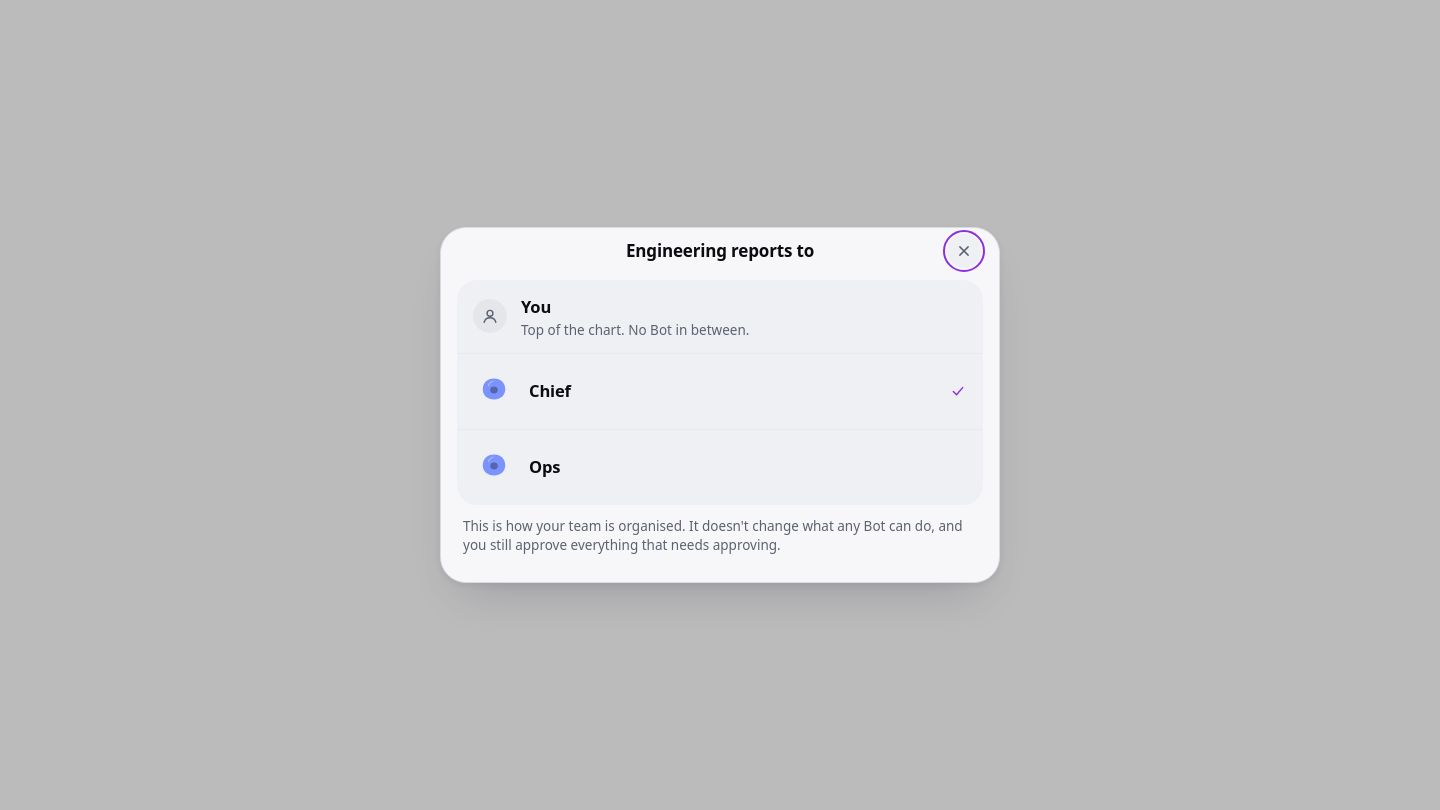
it: ReportsToSheet › says a lost connection in plain words, and stays open
Click the button "Ops" at (494, 466), box [457,429,983,505]
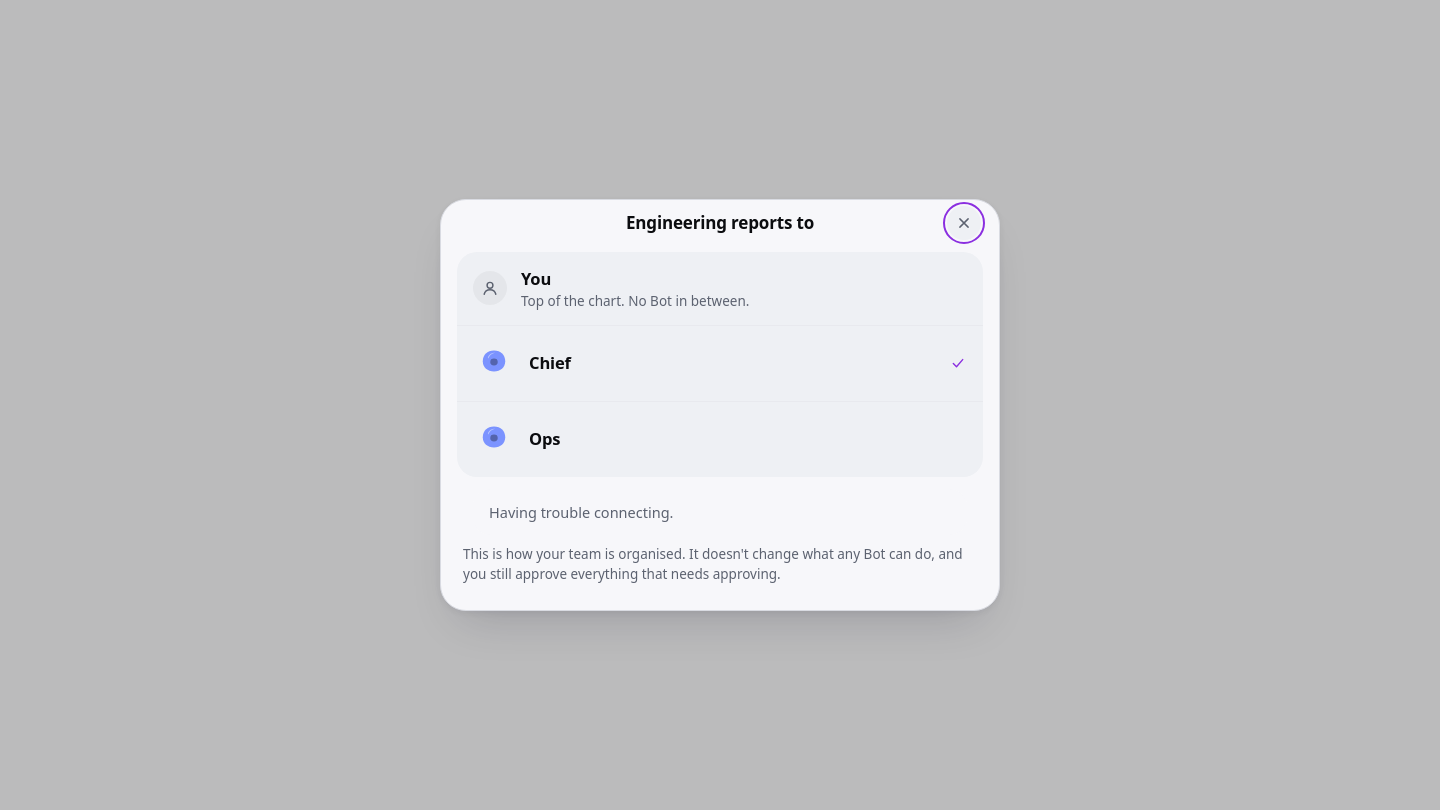
Check: the message reads "Having trouble connecting.", box [489,502,674,522]
